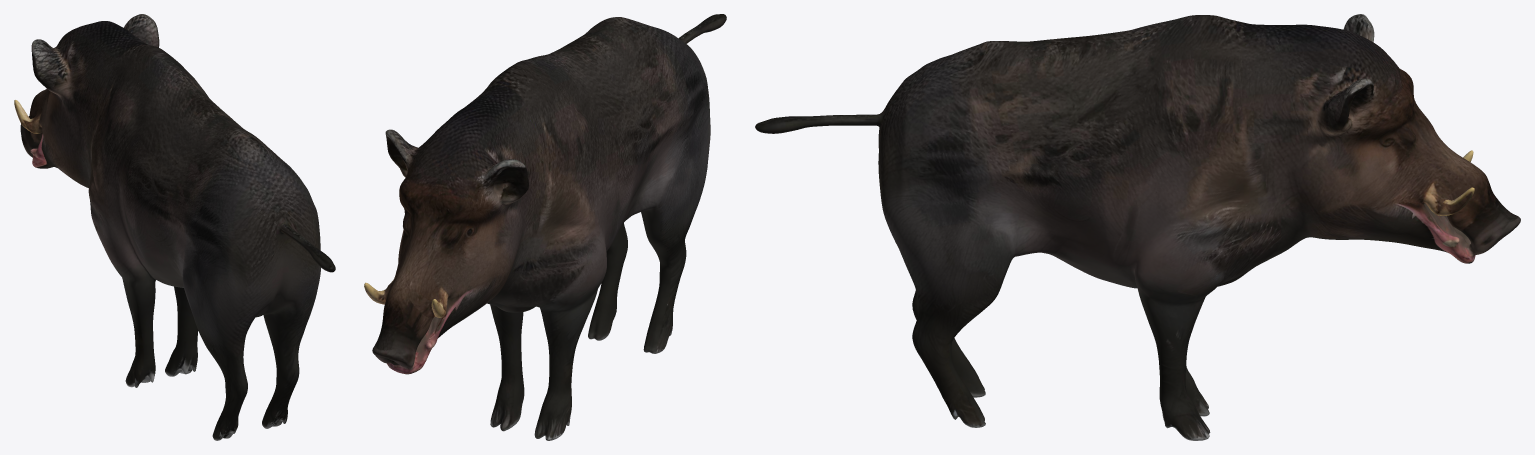
Rendered from boar.glb.
3 renders of one model, left to right at view 1: azimuth 30°, elevation 25°; view 2: azimuth 150°, elevation 25°; view 3: azimuth 270°, elevation 25°, orthographic. The views are drawn at different scales.
Parts seen in each view (by area): view 1: tripo_node_cd8687c7-b070-4e03-8e68-28f19308c820; view 2: tripo_node_cd8687c7-b070-4e03-8e68-28f19308c820; view 3: tripo_node_cd8687c7-b070-4e03-8e68-28f19308c820.
Boxes of the visible parts, <box> form: tripo_node_cd8687c7-b070-4e03-8e68-28f19308c820: <box>14,14,335,440</box>; tripo_node_cd8687c7-b070-4e03-8e68-28f19308c820: <box>364,14,726,440</box>; tripo_node_cd8687c7-b070-4e03-8e68-28f19308c820: <box>755,14,1520,440</box>.
Bounding box in the file's own units: 0.223 × 0.5591 × 0.9506.
1 material, 1 textured.
